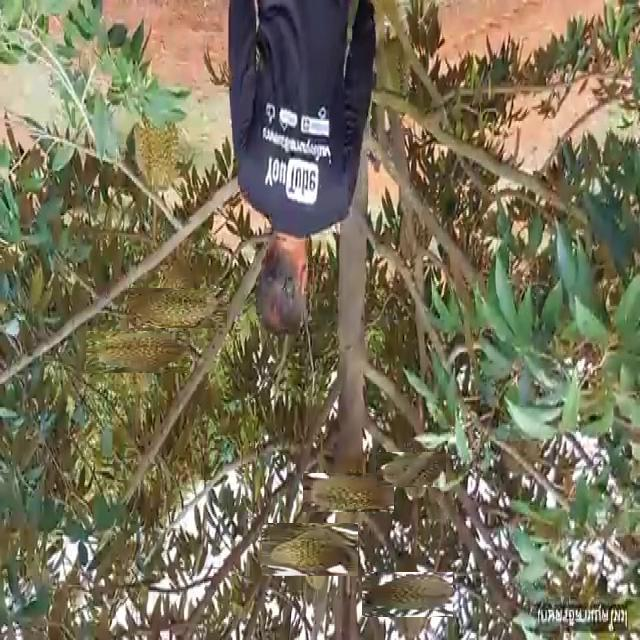durian: (273, 512, 348, 588), (128, 97, 180, 201), (102, 316, 175, 388), (143, 273, 213, 342), (373, 560, 442, 628), (316, 460, 382, 525), (374, 28, 413, 125), (386, 443, 438, 496)
